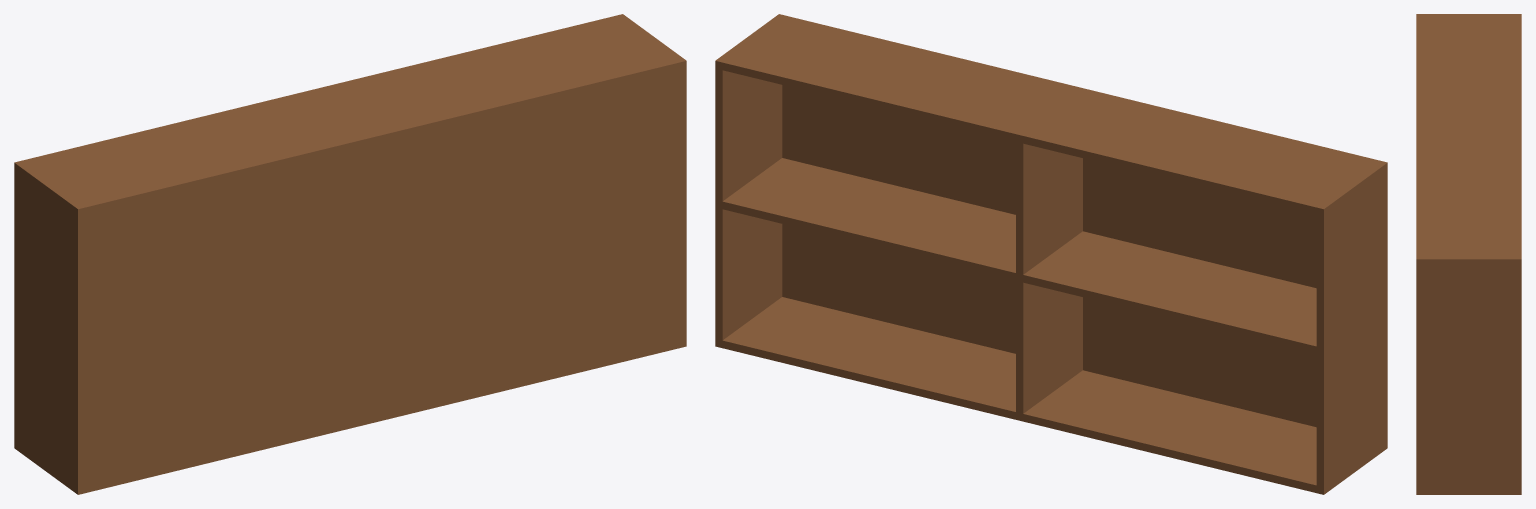
File: parametric-wall-shelf-2nd-1650x0300x0740.glb
3 renders of one model, left to right at view 1: azimuth 30°, elevation 25°; view 2: azimuth 150°, elevation 25°; view 3: azimuth 270°, elevation 25°, orthographic. The views are drawn at different scales.
Visible parts, largest first — view 1: backboard, top, end:-1; view 2: backboard, top, bottom, shelf, end:-1, end:1, divider:1; view 3: top, end:1, backboard, end:-1.
Part boxes in pixels (bbox=[...]): backboard: bbox=[73, 57, 686, 494]; top: bbox=[22, 16, 674, 204]; end:-1: bbox=[14, 160, 80, 491]; backboard: bbox=[775, 14, 1387, 450]; top: bbox=[722, 19, 1375, 214]; bottom: bbox=[722, 297, 1316, 492]; shelf: bbox=[722, 158, 1316, 353]; end:-1: bbox=[1316, 164, 1383, 494]; end:1: bbox=[715, 17, 782, 348]; divider:1: bbox=[1016, 142, 1082, 413]; top: bbox=[1423, 17, 1521, 256]; end:1: bbox=[1423, 256, 1521, 494]; backboard: bbox=[1416, 14, 1423, 494]; end:-1: bbox=[1423, 14, 1521, 16].
Bounding box in the file's own units: 1.65 × 0.74 × 0.3.
